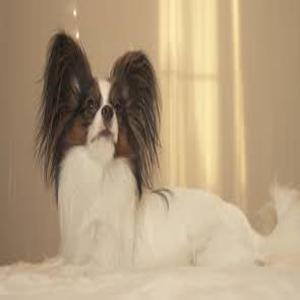yell: (38, 32, 300, 273)
